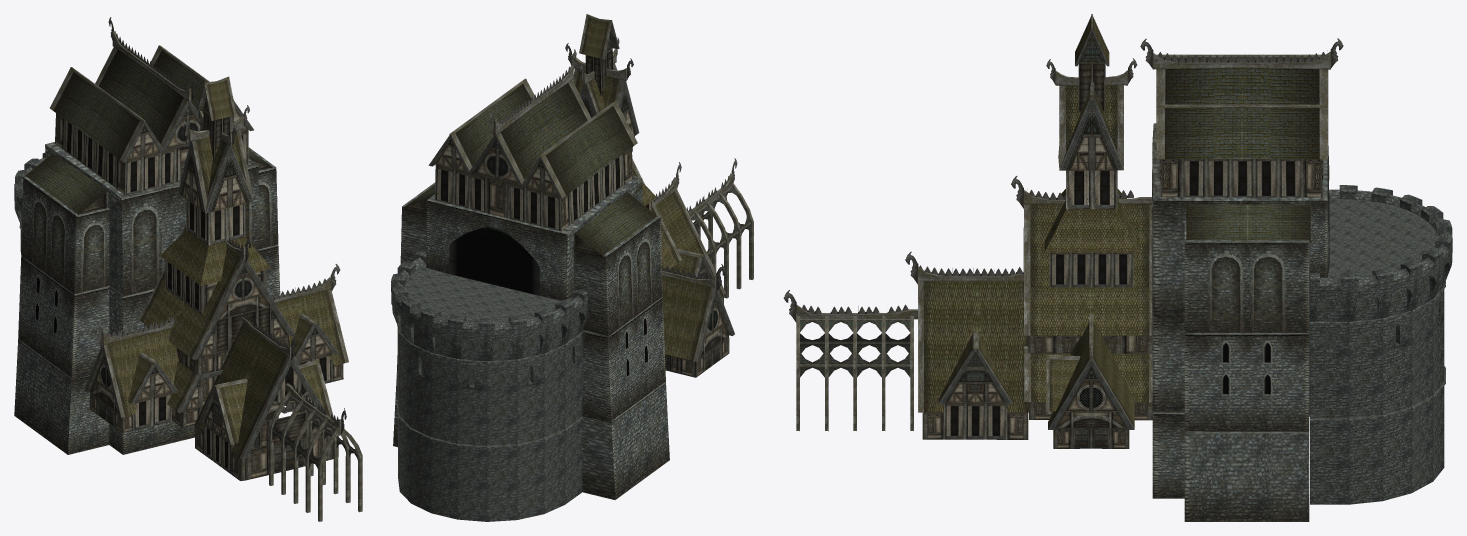
File: dragonsreach.fbx
3 views of the same model, side by side, from view 1: azimuth 30°, elevation 25°; view 2: azimuth 150°, elevation 25°; view 3: azimuth 270°, elevation 25° (orthographic). The views are drawn at different scales.
Parts seen in each view (by area): view 1: DragonsreachLOD; view 2: DragonsreachLOD; view 3: DragonsreachLOD.
Part boxes in pixels (x1,y1,x2,y2): DragonsreachLOD: (14,17,362,521); DragonsreachLOD: (391,14,753,521); DragonsreachLOD: (783,14,1452,521).
Bounding box in the file's own units: 902 × 1308 × 1808.
8 materials, 8 textured.
